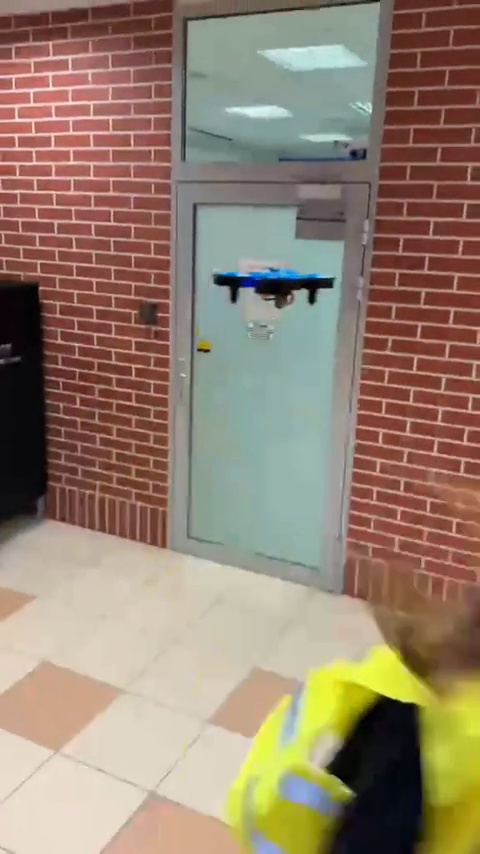drone: (197, 264, 331, 312)
